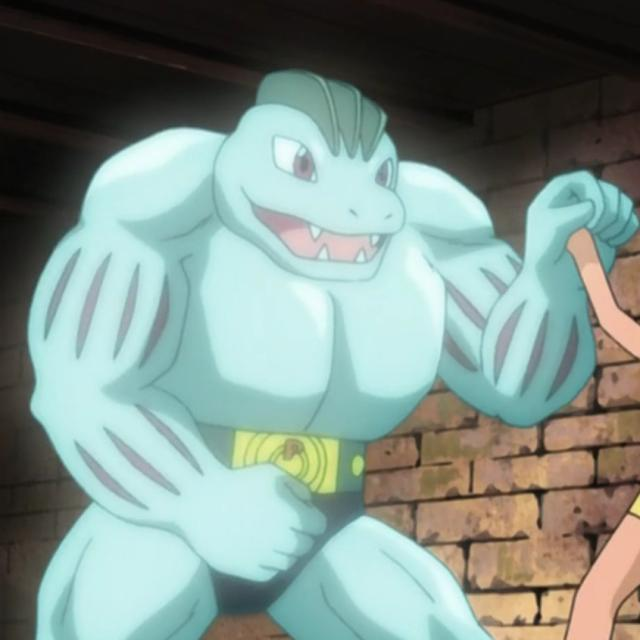Machoke: (25, 73, 535, 637)
